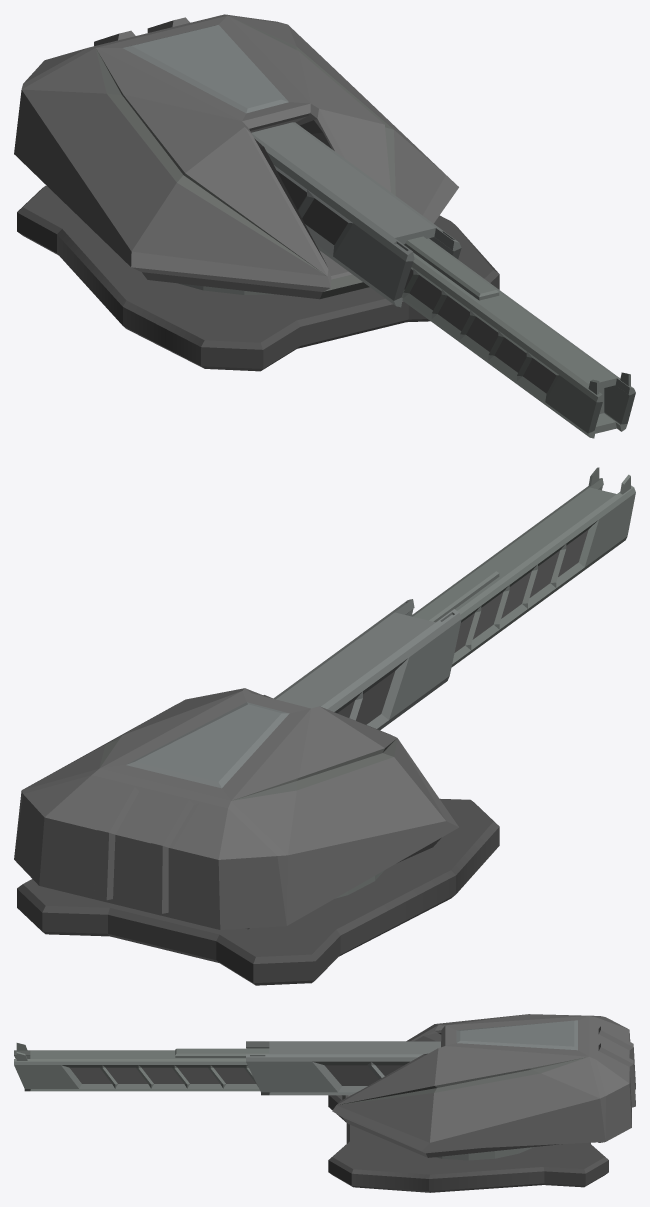
Rendered from model_polyfleet_battleship_railgun2.fbx.
The picture shows the model from 3 angles, top to bottom: view 1: azimuth 30°, elevation 25°; view 2: azimuth 150°, elevation 25°; view 3: azimuth 270°, elevation 25°; orthographic projection. The views are drawn at different scales.
Parts seen in each view (by area): view 1: weapon_rotate, model_polyfleet_battleship_railgun2, weapon_barrels_front, weapon_barrels_back; view 2: weapon_rotate, model_polyfleet_battleship_railgun2, weapon_barrels_front, weapon_barrels_back; view 3: weapon_rotate, model_polyfleet_battleship_railgun2, weapon_barrels_front, weapon_barrels_back.
Part boxes in pixels (<box>): weapon_rotate: <box>14,14,458,299</box>; model_polyfleet_battleship_railgun2: <box>17,185,499,371</box>; weapon_barrels_front: <box>401,236,635,438</box>; weapon_barrels_back: <box>251,122,461,307</box>; weapon_rotate: <box>14,688,458,929</box>; model_polyfleet_battleship_railgun2: <box>17,798,499,985</box>; weapon_barrels_front: <box>411,467,635,667</box>; weapon_barrels_back: <box>273,599,461,730</box>; weapon_rotate: <box>332,1014,635,1160</box>; model_polyfleet_battleship_railgun2: <box>328,1095,608,1192</box>; weapon_barrels_front: <box>14,1043,269,1091</box>; weapon_barrels_back: <box>246,1041,440,1095</box>.
Bounding box in the file's own units: 254 × 125 × 647.
